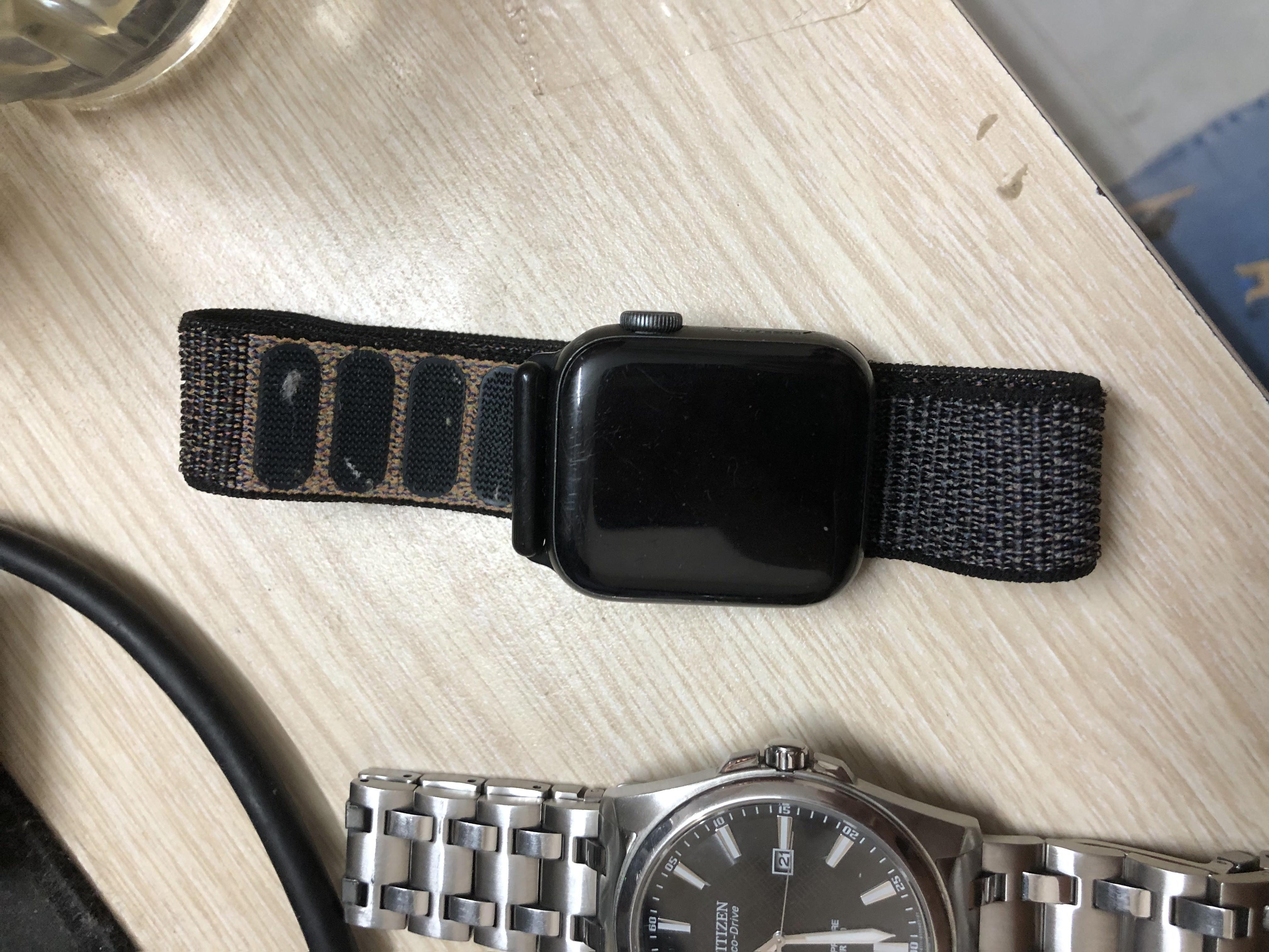watch: (431, 124, 895, 856)
